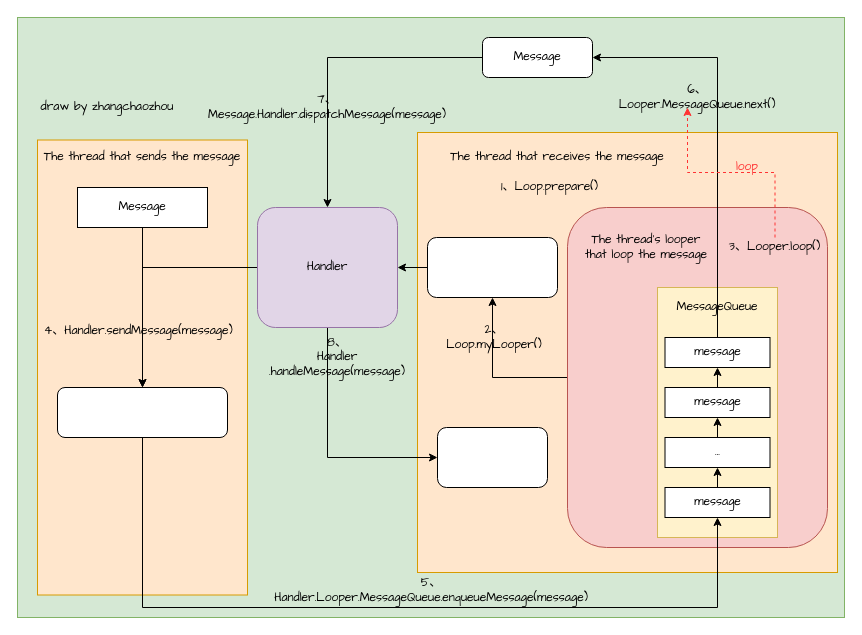
The diagram is 862 pixels wide and 635 high, and some of its shapes have lost their labels. Here are the shapes that lost their labels. From the top down, the box of each, then its label:
(426, 236, 558, 298): Handler.Looper=Looper
(56, 386, 228, 438): Message.Handler = Handler
(436, 426, 548, 488): Receive the message and handle it
